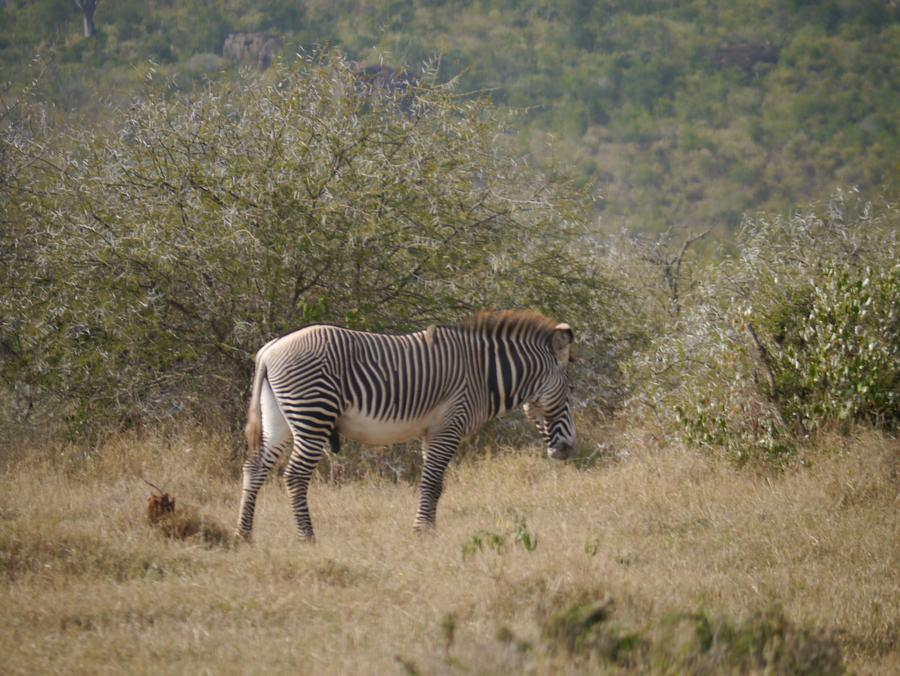zebra_grevys: (261, 320, 478, 438)
